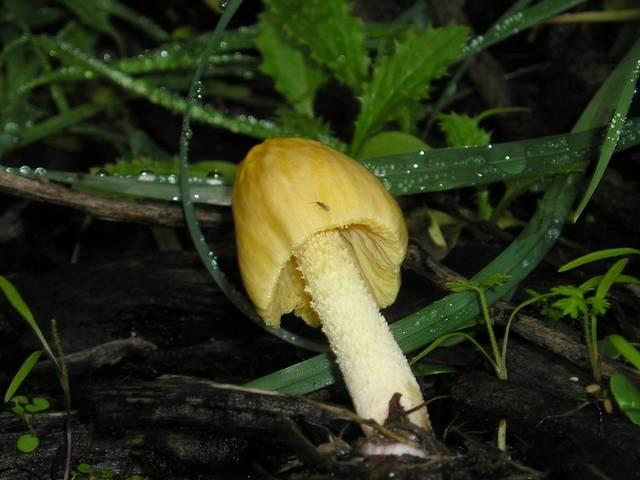Edible Mushroom: (230, 134, 435, 458)
